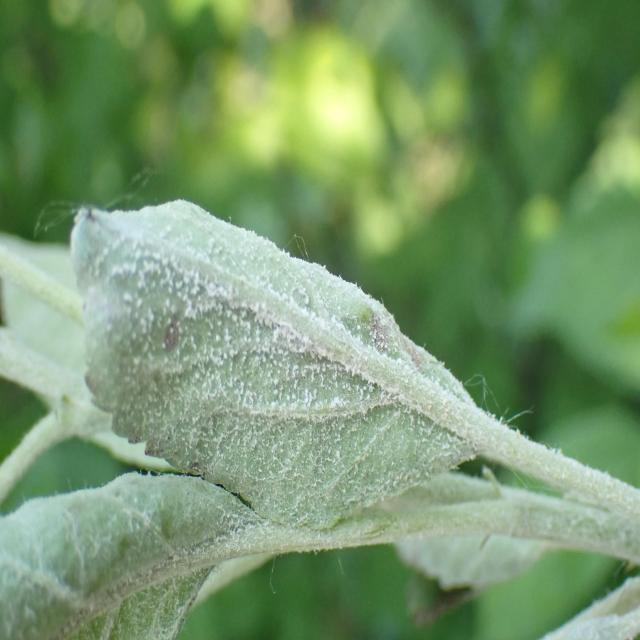Powdery_mildew: (59, 175, 492, 496), (0, 463, 339, 639), (388, 490, 565, 591)
